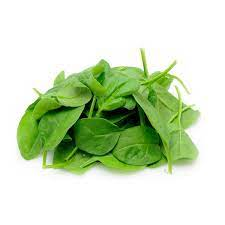spinach: (25, 55, 202, 176)
